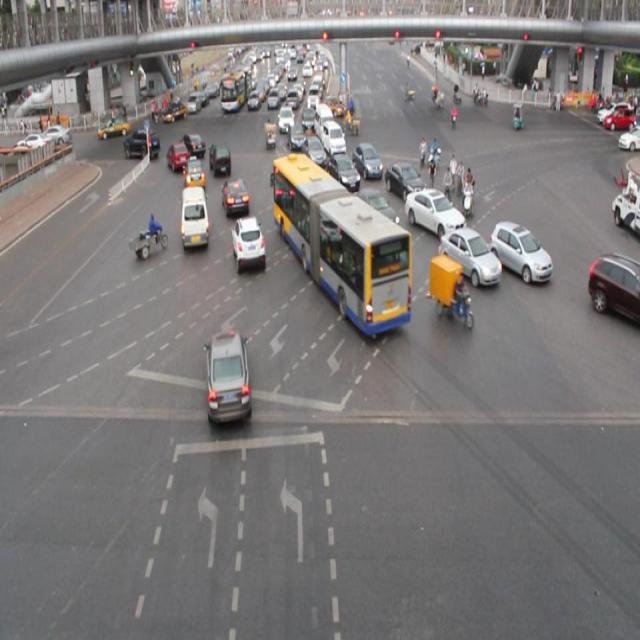car: (204, 329, 251, 424), (489, 219, 550, 282), (588, 250, 640, 320), (440, 228, 500, 286), (404, 186, 463, 238), (348, 188, 397, 229), (230, 215, 266, 270), (384, 161, 426, 204), (326, 154, 359, 192), (221, 175, 250, 218), (353, 142, 382, 180), (124, 130, 159, 160), (208, 142, 230, 179), (183, 156, 206, 191), (303, 135, 326, 170), (166, 143, 190, 171), (180, 132, 205, 158)
truck: (180, 186, 209, 248)
van: (271, 155, 410, 331)
